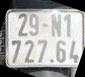-: (42, 22, 50, 28)
.: (49, 59, 54, 63)
1: (64, 14, 72, 37)
2: (17, 12, 28, 37), (24, 40, 35, 63)
4: (69, 40, 79, 63)
6: (55, 40, 67, 63)
7: (11, 39, 21, 64), (37, 39, 47, 62)
9: (28, 13, 40, 37)
N: (51, 13, 61, 38)
